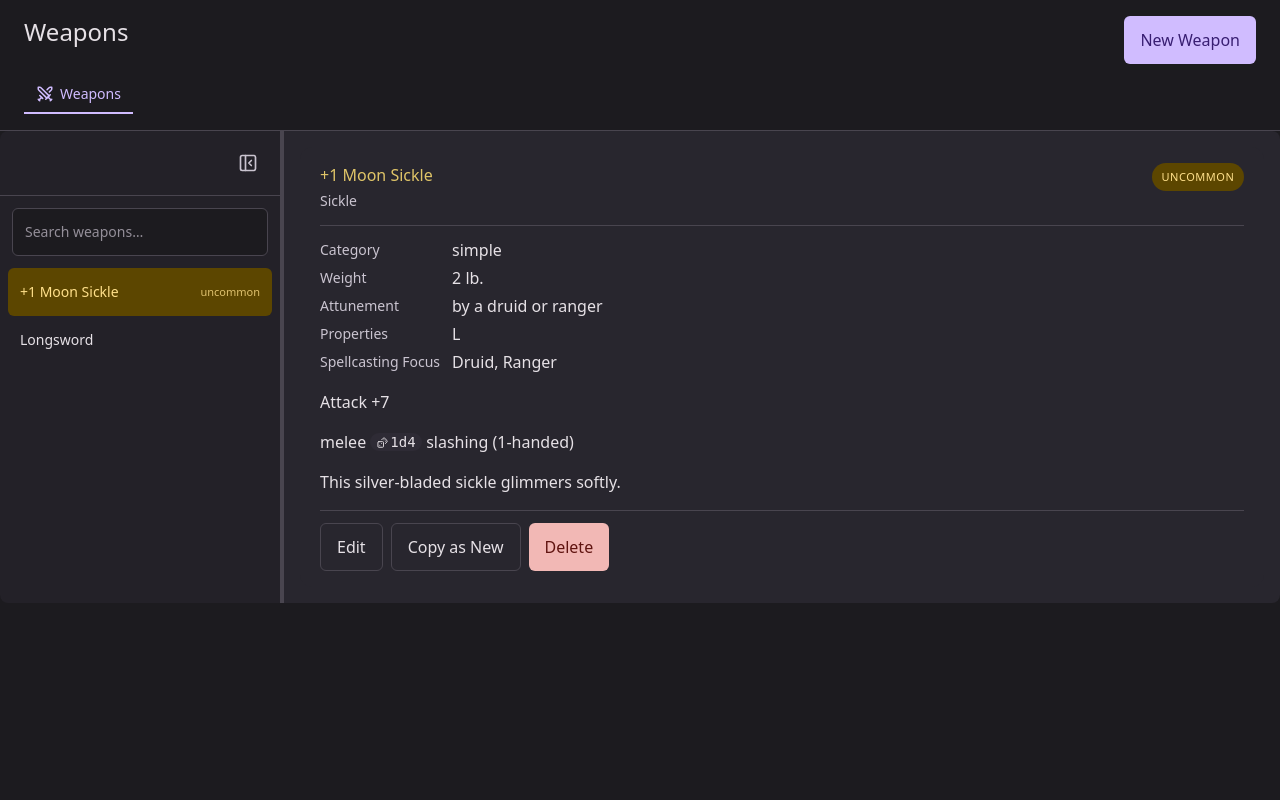
Scenario: WeaponBrowserPage › shows the plain confirmation for an unassigned weapon
This screenshot has width=1280, height=800.
Expected: the text "Longsword" is shown, [20, 330, 93, 350]
What coordinates should you click on to do the following:
click the button "Longsword"
I would click on:
 (57, 340)
Its box is [8, 316, 272, 364].
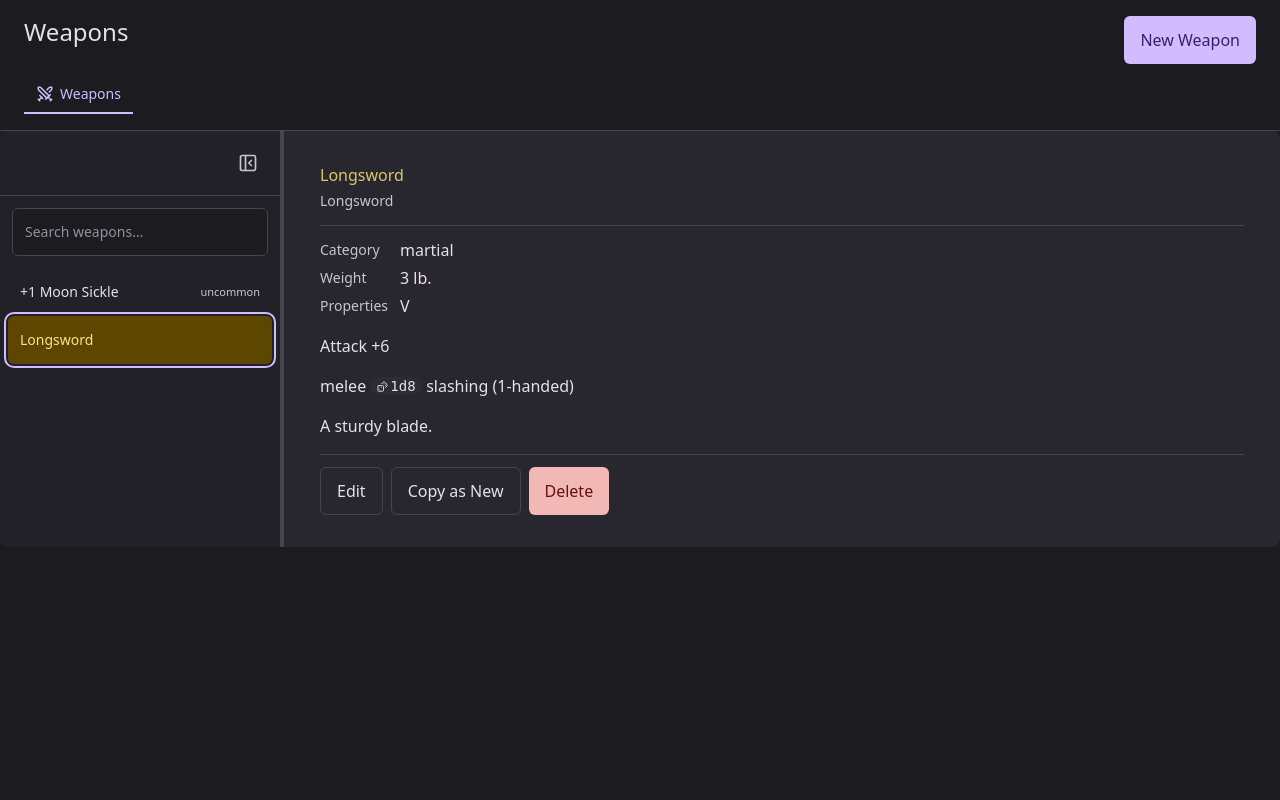
What coordinates should you click on to do the following:
click the button "Delete"
I would click on:
 (569, 491)
Its box is [528, 467, 609, 515].
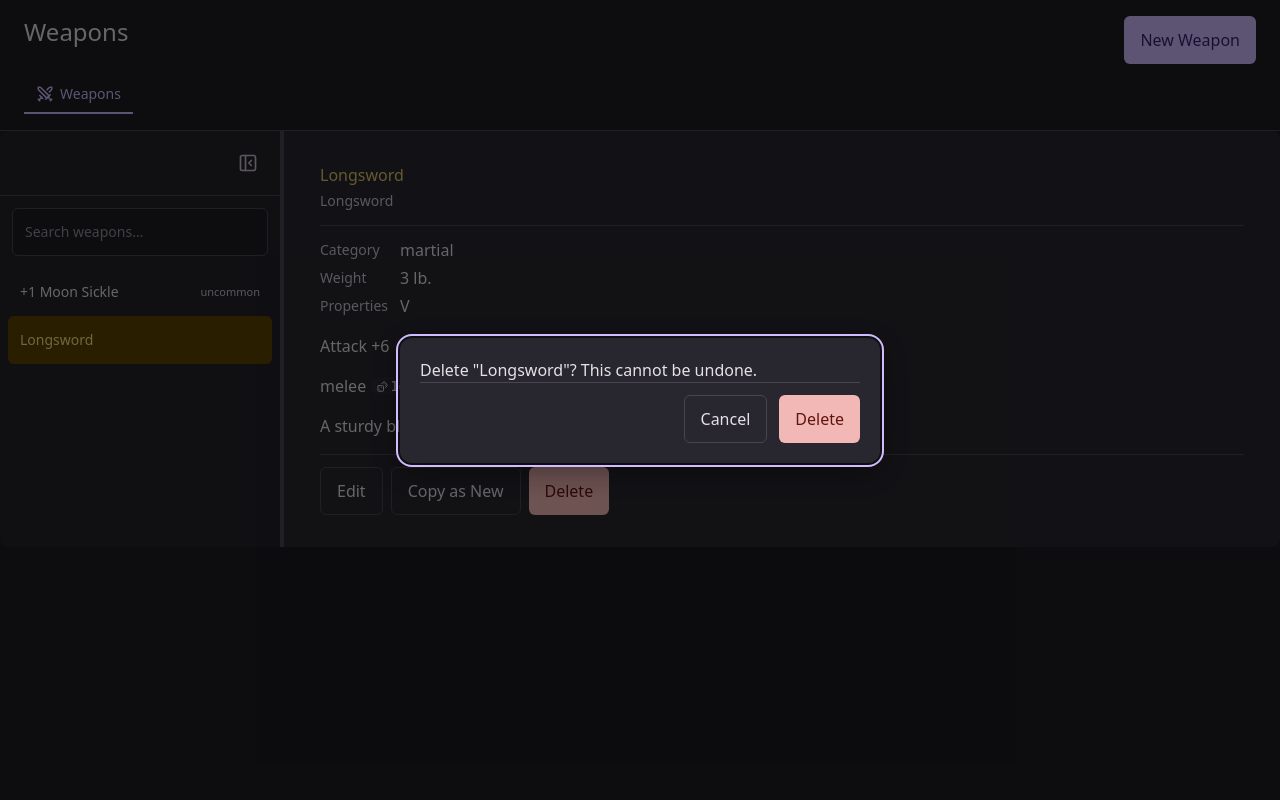
Expected: the dialog "Delete \"Longsword\"? This cannot be undone." is shown, [400, 338, 880, 462]
